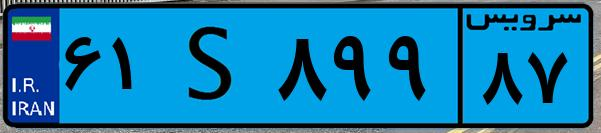1: (110, 28, 158, 98)
6: (57, 26, 110, 100)
7: (525, 38, 570, 115)
8: (270, 28, 330, 110), (475, 38, 525, 113)
9: (385, 28, 445, 110), (330, 28, 385, 110)
S: (158, 12, 270, 120)
